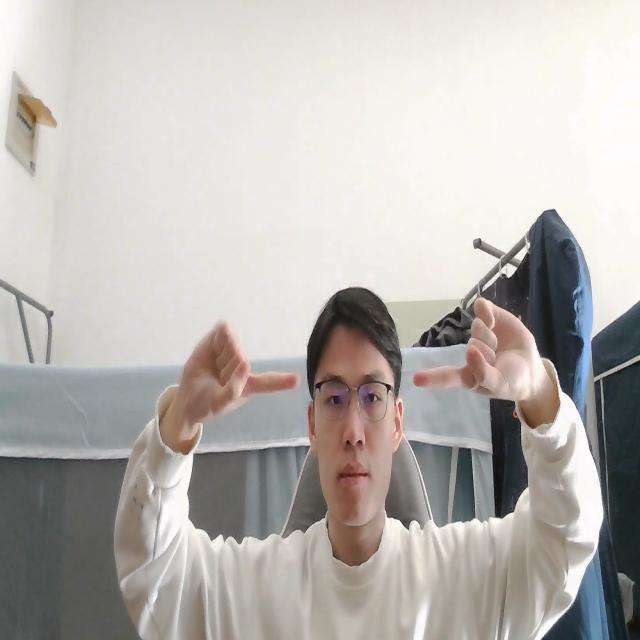one: (160, 311, 310, 450), (406, 292, 544, 412)
